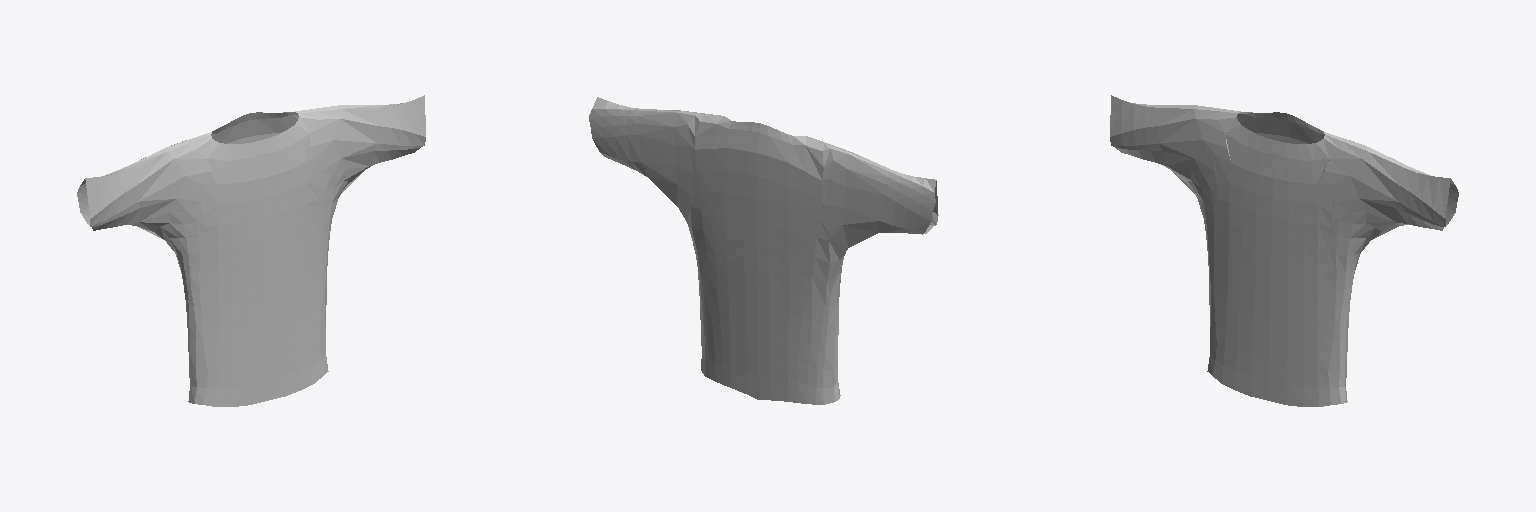
The model's file is tshirt_1.obj.
The picture shows the model from 3 angles: view 1: azimuth 30°, elevation 25°; view 2: azimuth 150°, elevation 25°; view 3: azimuth 330°, elevation 25°; orthographic projection.
Visible parts, largest first — view 1: tshirt_base_Plane.003_tshirt_base_Plane.008; view 2: tshirt_base_Plane.003_tshirt_base_Plane.008; view 3: tshirt_base_Plane.003_tshirt_base_Plane.008.
Part boxes in pixels (x1,y1,x2,y2): tshirt_base_Plane.003_tshirt_base_Plane.008: (77, 95, 425, 406); tshirt_base_Plane.003_tshirt_base_Plane.008: (589, 97, 938, 404); tshirt_base_Plane.003_tshirt_base_Plane.008: (1110, 95, 1458, 406).
Size of the model in its own units: 1.57 by 1.18 by 0.1761.